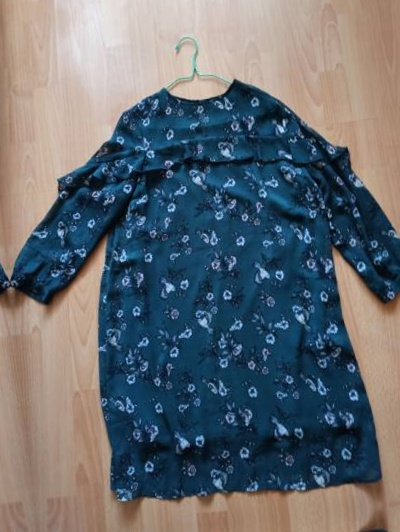Dress: (0, 39, 400, 528), (0, 84, 28, 532), (50, 515, 400, 532), (389, 0, 400, 484)
